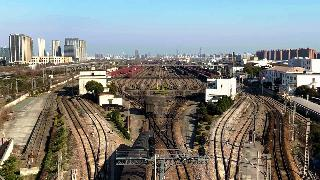train: (120, 132, 152, 180), (144, 98, 154, 113)
